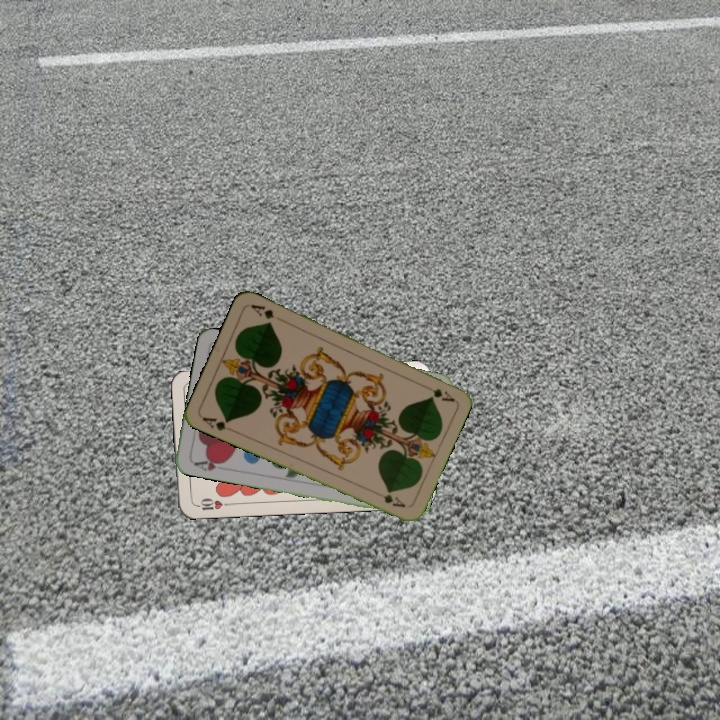GA: (418, 381, 457, 404), (198, 413, 237, 434)
H10: (191, 494, 232, 513)
HA: (190, 454, 228, 474)
